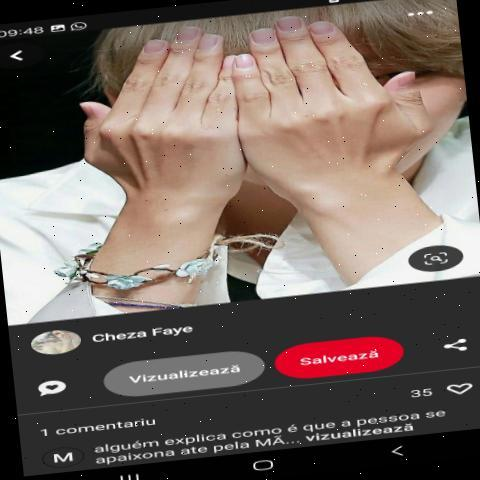Hands: (238, 21, 446, 228), (65, 26, 243, 266)
